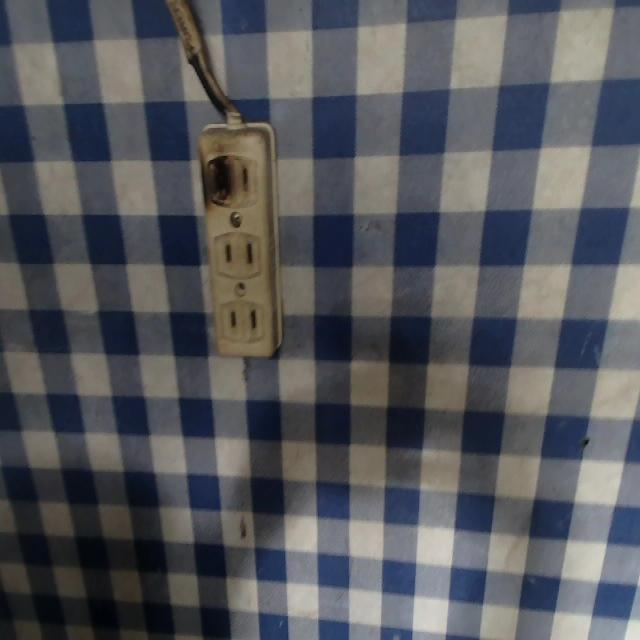-: (201, 147, 234, 205)
